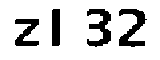2: (115, 6, 151, 50)
3: (77, 5, 116, 52)
l: (46, 8, 72, 48)
z: (11, 15, 43, 50)
